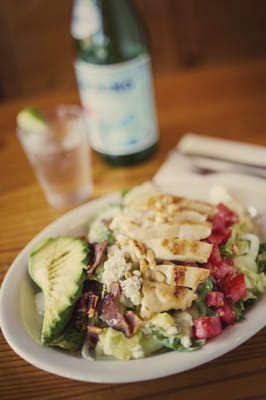pizza: (16, 102, 95, 210)
